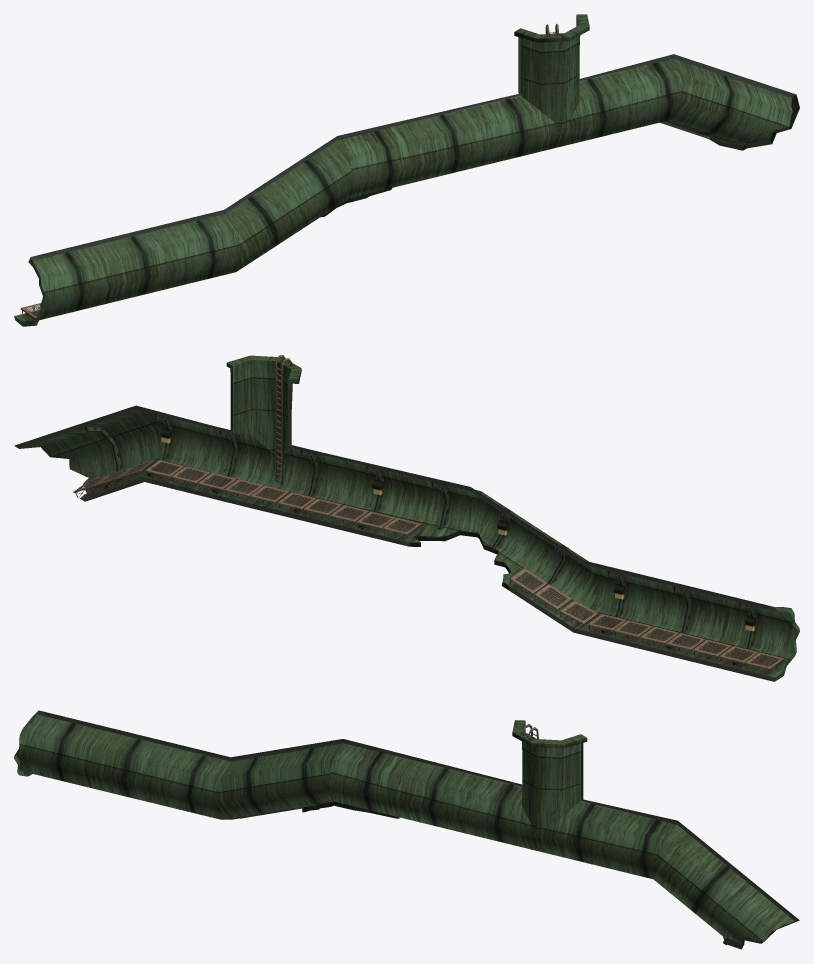
File: Terrain_Sewer.fbx
The picture shows the model from 3 angles, top to bottom: view 1: azimuth 30°, elevation 25°; view 2: azimuth 150°, elevation 25°; view 3: azimuth 330°, elevation 25°; orthographic projection.
Visible parts, largest first — view 1: Terrain_Sewer1; view 2: Terrain_Sewer1; view 3: Terrain_Sewer1.
Part boxes in pixels (bbox=[...]): Terrain_Sewer1: bbox=[14, 14, 799, 326]; Terrain_Sewer1: bbox=[14, 355, 799, 681]; Terrain_Sewer1: bbox=[14, 710, 799, 949].
Bounding box in the file's own units: 79.6 × 18.25 × 5.26.
